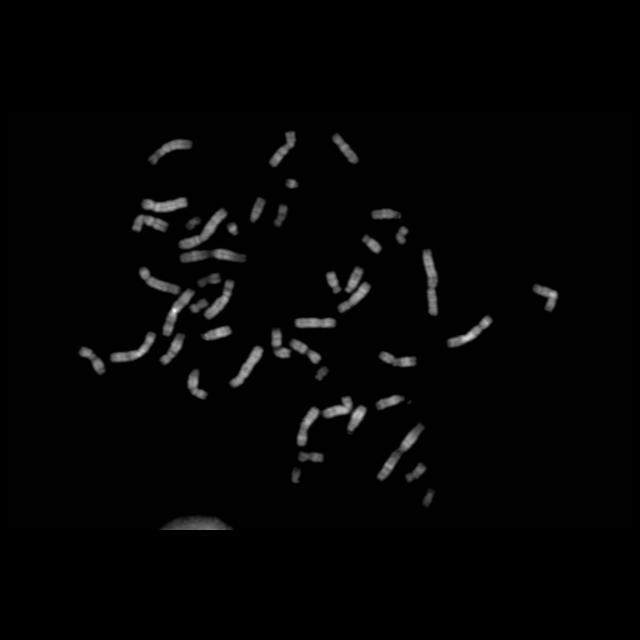chromosome: (378, 422, 424, 480), (179, 208, 227, 248), (162, 288, 193, 336), (449, 316, 493, 348), (231, 345, 264, 387), (111, 331, 155, 362), (204, 280, 234, 320), (181, 248, 247, 266), (140, 268, 178, 296), (423, 249, 439, 315), (338, 282, 370, 314), (149, 140, 191, 164), (270, 131, 294, 167), (160, 332, 185, 366), (297, 406, 318, 446), (79, 347, 105, 375), (334, 134, 358, 164), (290, 339, 320, 363), (132, 215, 168, 235), (143, 196, 187, 212), (533, 284, 557, 312), (187, 368, 208, 399), (323, 396, 352, 418), (380, 351, 416, 367), (272, 328, 290, 358), (348, 405, 366, 431), (376, 394, 404, 410), (295, 318, 335, 328), (406, 462, 426, 482), (202, 326, 230, 340), (250, 198, 266, 222), (346, 268, 362, 292), (362, 236, 382, 254), (326, 271, 342, 293), (372, 208, 401, 220), (198, 274, 220, 288), (274, 206, 288, 227), (190, 298, 208, 314), (298, 452, 322, 462), (397, 228, 408, 245), (424, 490, 434, 508), (185, 218, 200, 230), (316, 366, 328, 380), (290, 469, 300, 485), (228, 223, 238, 234), (287, 180, 298, 188)
